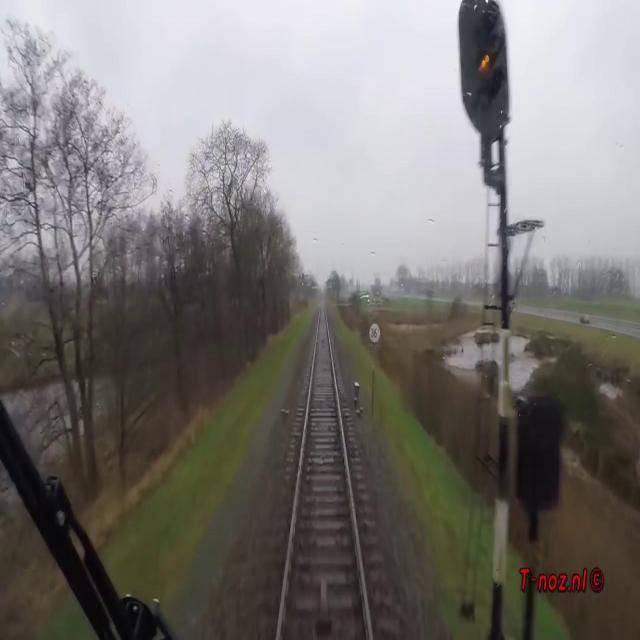rail-track: (280, 297, 368, 639)
